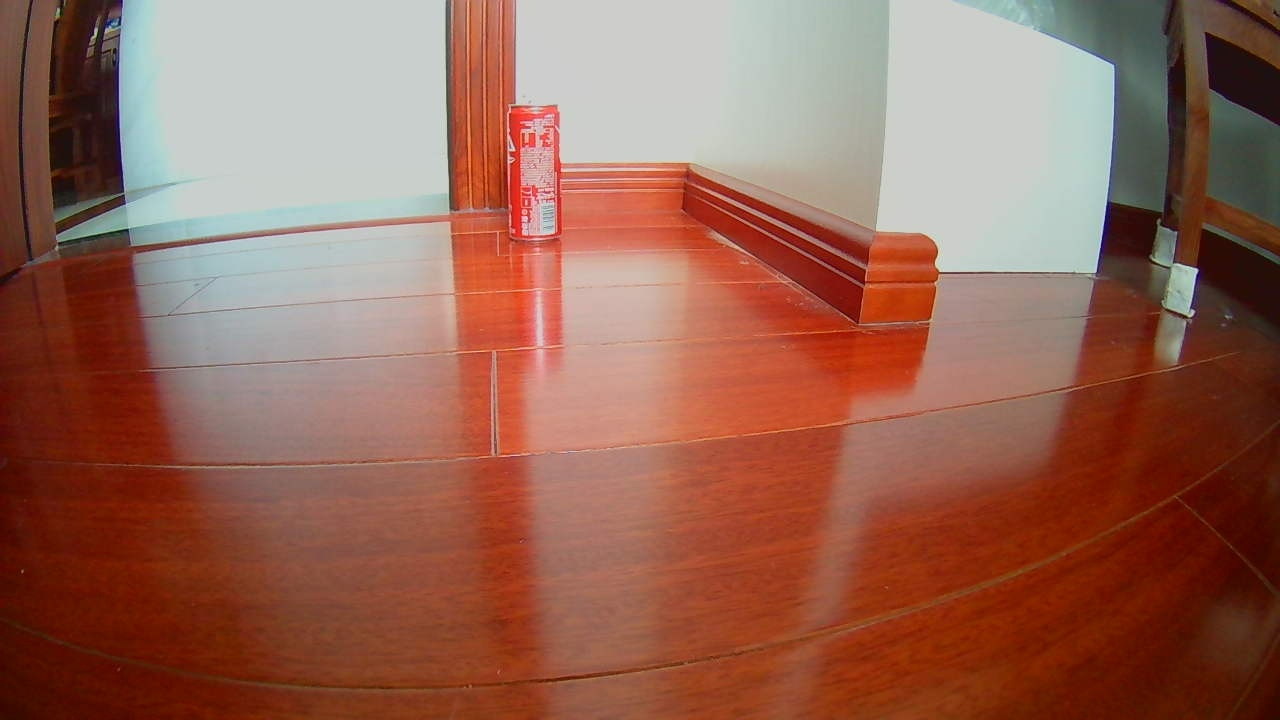cola: (504, 105, 562, 238)
